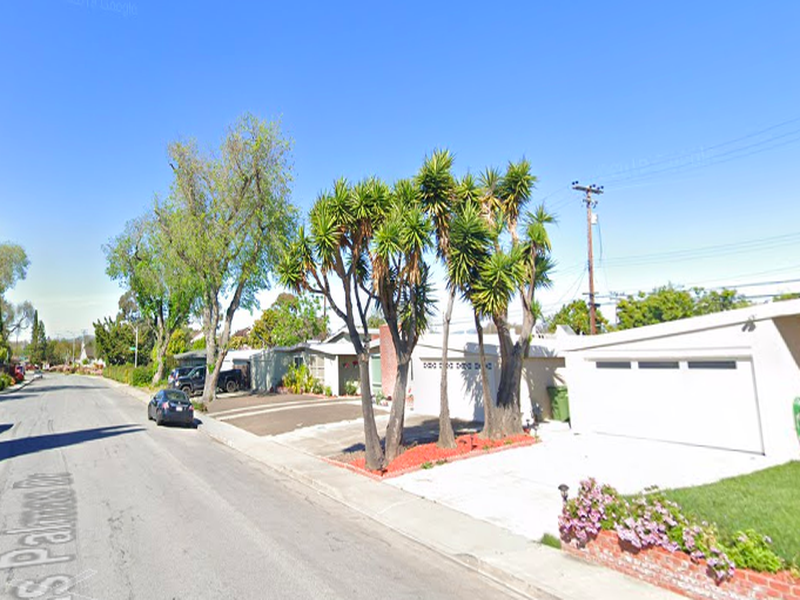tree: (273, 171, 436, 476), (153, 107, 299, 406), (413, 145, 536, 449), (468, 198, 560, 441), (101, 193, 207, 388)
